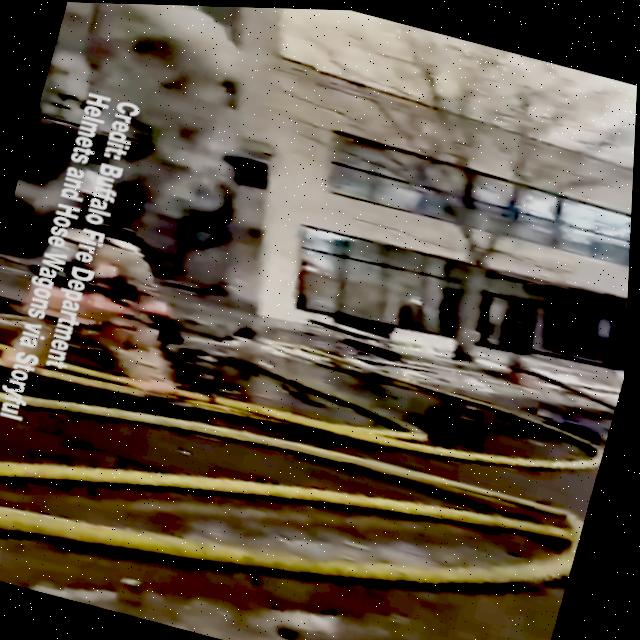Smoke: (44, 1, 289, 130)
